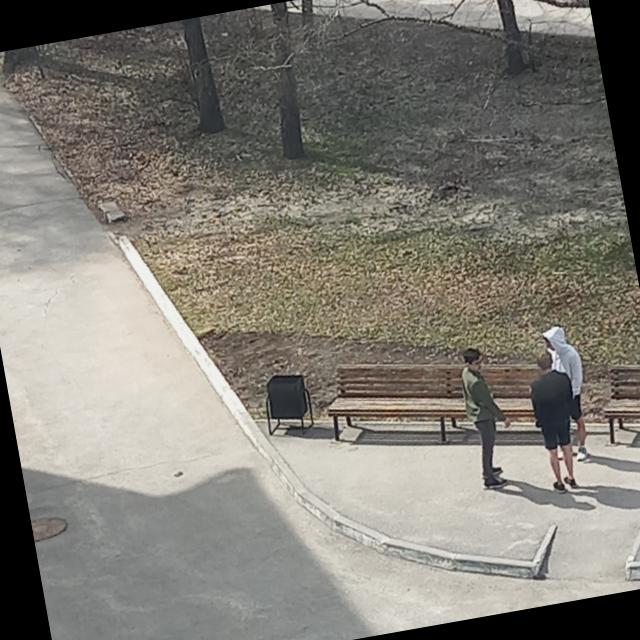person: (522, 346, 588, 494), (454, 343, 520, 490), (538, 322, 598, 461)
